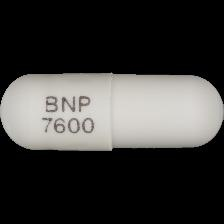50458-098: (0, 0, 224, 224)
